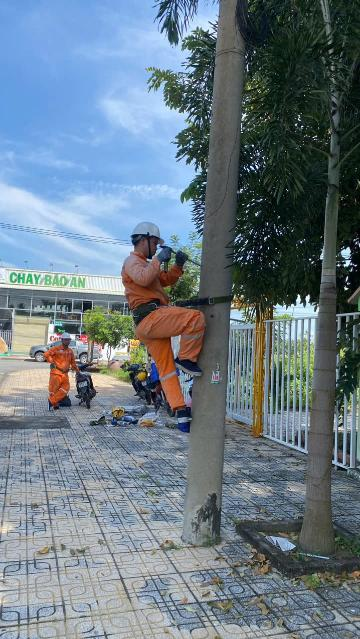gloves: (173, 250, 192, 271), (155, 247, 175, 264), (49, 364, 57, 371)
harness: (127, 295, 207, 324), (57, 367, 71, 375)
helmet: (128, 219, 168, 245), (58, 330, 75, 345)
shoes: (169, 401, 205, 427), (172, 352, 204, 379), (44, 399, 55, 412), (52, 406, 62, 413)
